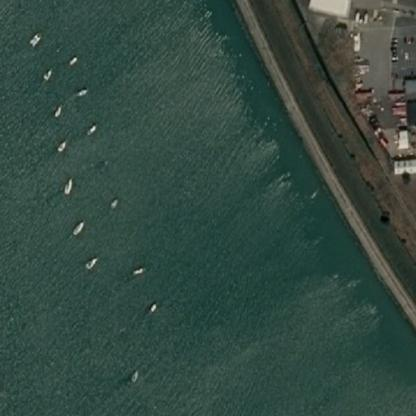ship: (59, 170, 77, 198), (126, 260, 150, 280), (68, 216, 88, 238), (25, 28, 44, 50), (71, 81, 91, 101), (50, 136, 72, 154), (102, 192, 124, 210), (141, 297, 161, 316), (48, 99, 66, 120), (37, 64, 56, 83), (126, 363, 140, 387), (83, 252, 100, 271), (64, 50, 80, 68), (83, 118, 97, 137)
